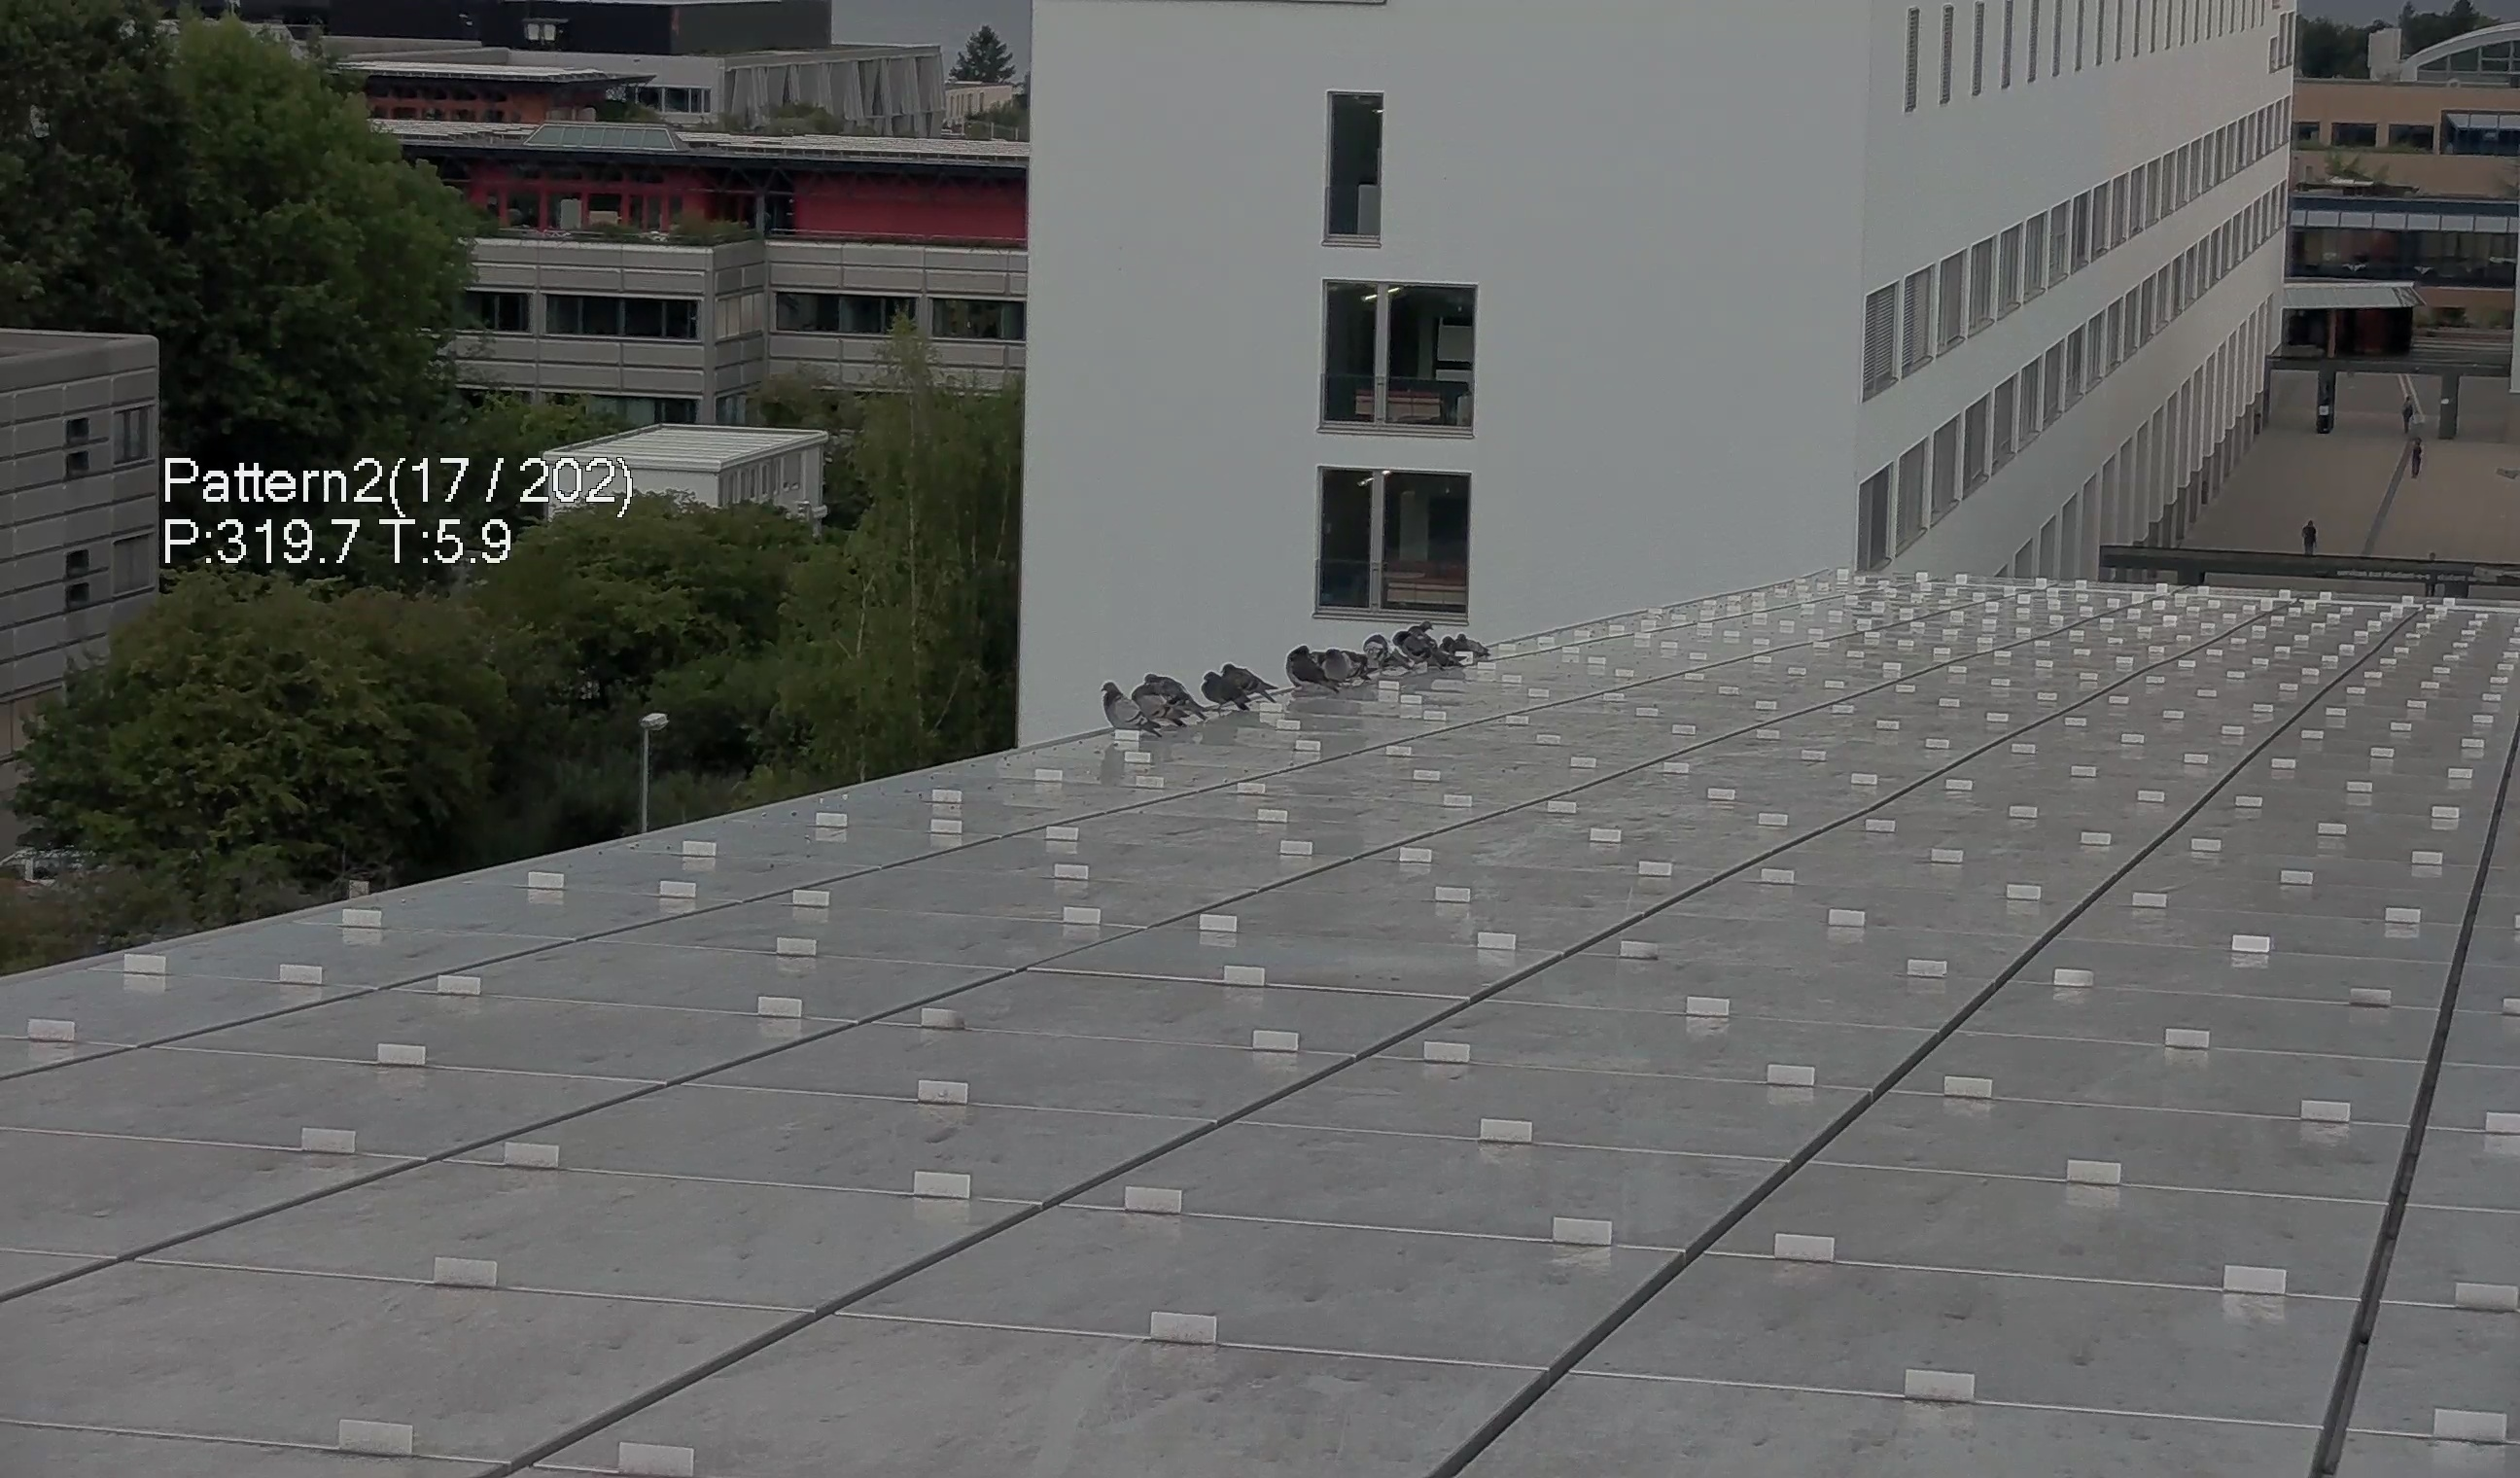Pigeon: (1092, 681, 1155, 744), (1129, 679, 1184, 732), (1284, 644, 1338, 695), (1222, 662, 1277, 699), (1201, 669, 1247, 709), (1363, 635, 1410, 670), (1398, 630, 1438, 667), (1437, 632, 1482, 658), (1136, 669, 1182, 691), (1322, 644, 1351, 676)
